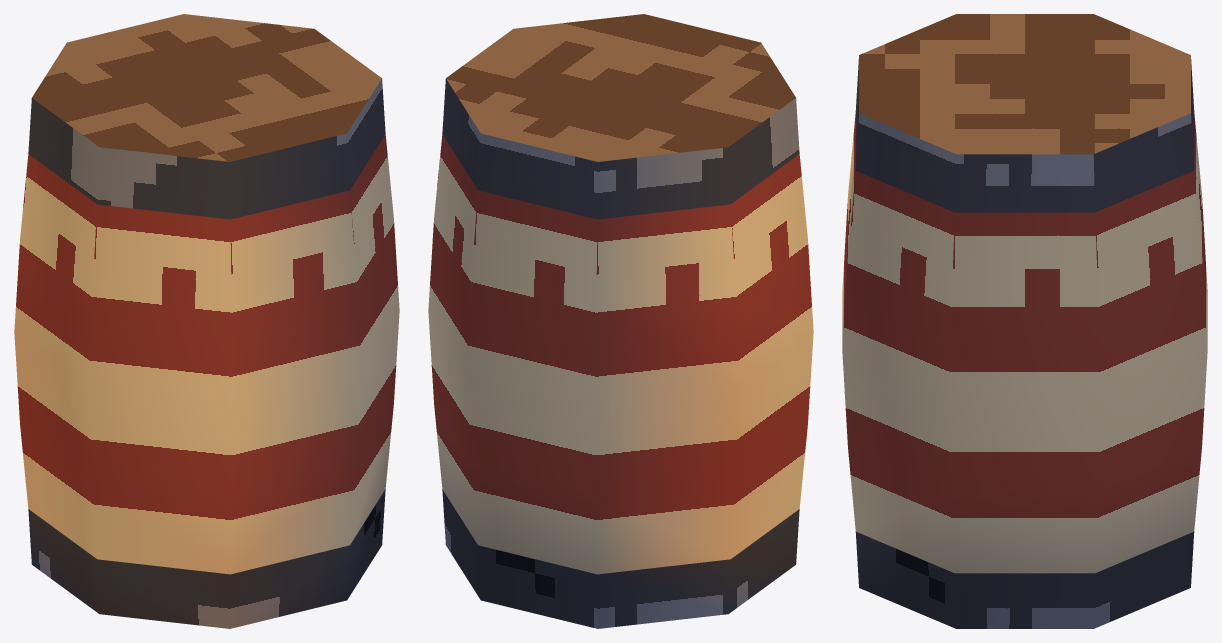
The model's file is wprop.barrel__powder.glb.
3 renders of one model, left to right at view 1: azimuth 30°, elevation 25°; view 2: azimuth 150°, elevation 25°; view 3: azimuth 270°, elevation 25°, orthographic.
Visible parts, largest first — view 1: kit_barrel; view 2: kit_barrel; view 3: kit_barrel.
Boxes of the visible parts, bbox=[...] form: kit_barrel: bbox=[14, 14, 399, 628]; kit_barrel: bbox=[428, 14, 813, 628]; kit_barrel: bbox=[842, 14, 1207, 628].
Size of the model in its own units: 0.4878 by 0.7 by 0.4878.
Materials: 3 (3 with a texture image).
